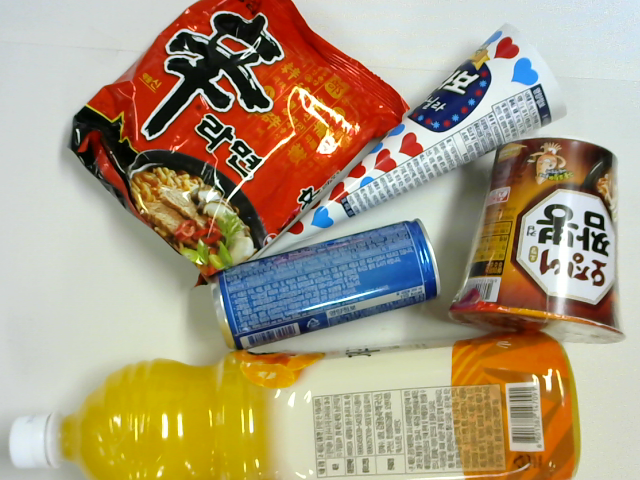Bravo_Cone_(Banila)_CVS: (253, 19, 568, 263)
Jeju_Tangerine_1.5L: (8, 331, 580, 480)
Ojjam: (449, 141, 627, 352)
Pepsi_Cola_Can_250ml: (216, 221, 440, 350)
Sinramen: (69, 1, 411, 291)
